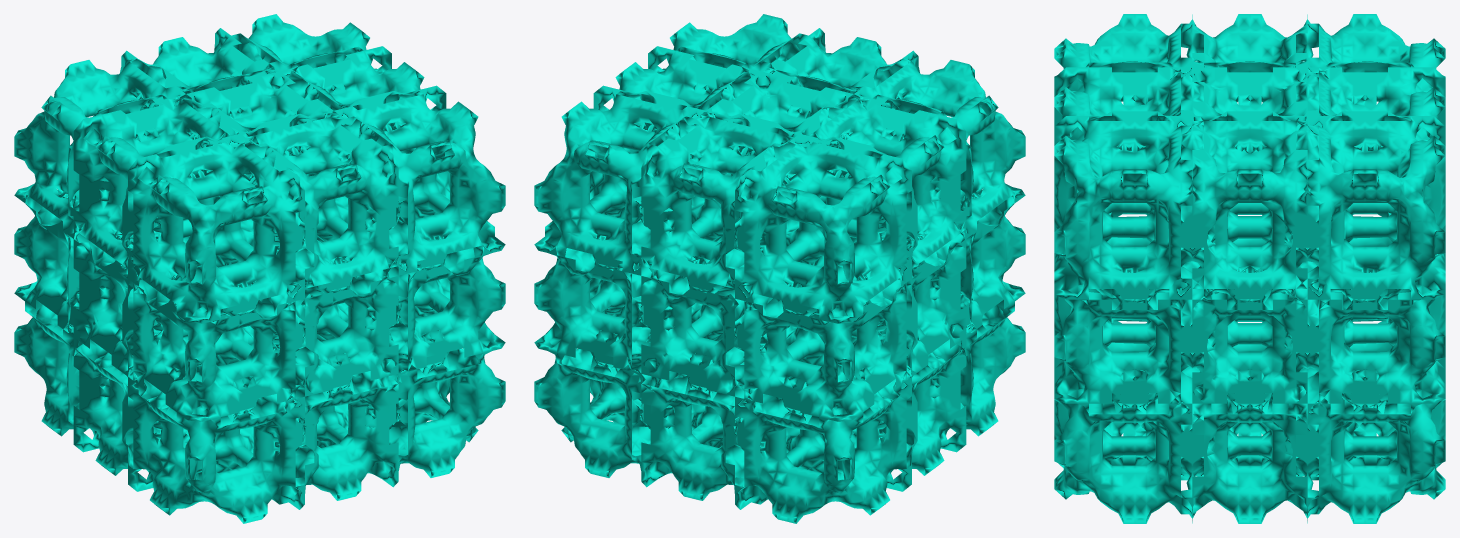
File: ifs_mandelbox_fractal_mesh_1780731479963.glb
3 renders of one model, left to right at view 1: azimuth 30°, elevation 25°; view 2: azimuth 150°, elevation 25°; view 3: azimuth 270°, elevation 25°, orthographic. The views are drawn at different scales.
Visible parts, largest first — view 1: mandelbox_ft1_mi1; view 2: mandelbox_ft1_mi1; view 3: mandelbox_ft1_mi1.
Boxes of the visible parts, box(x1,y1,x2,y2) form: mandelbox_ft1_mi1: box(14, 14, 505, 523); mandelbox_ft1_mi1: box(534, 14, 1025, 523); mandelbox_ft1_mi1: box(1054, 14, 1445, 523).
Size of the model in its own units: 4 by 4 by 4.
